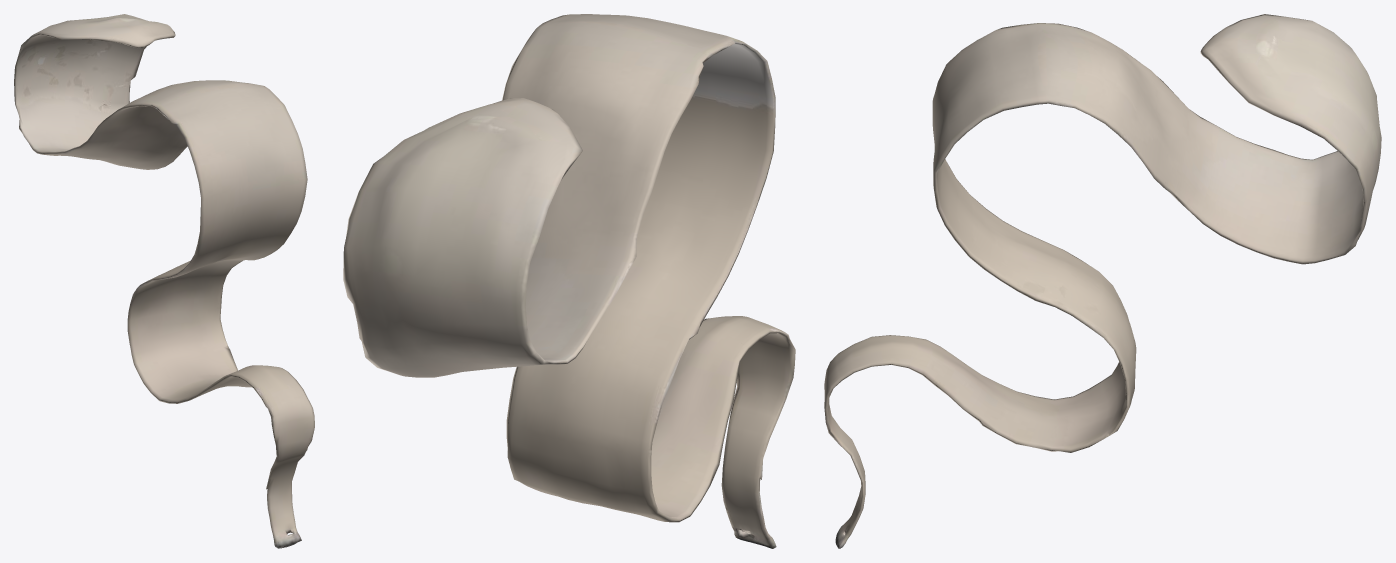
The model's file is Ittan_Momen2.glb.
3 views of the same model, side by side, from view 1: azimuth 30°, elevation 25°; view 2: azimuth 150°, elevation 25°; view 3: azimuth 270°, elevation 25° (orthographic). The views are drawn at different scales.
Parts seen in each view (by area): view 1: Retopo_ittan-momen2; view 2: Retopo_ittan-momen2; view 3: Retopo_ittan-momen2.
Part boxes in pixels (x1,y1,x2,y2): Retopo_ittan-momen2: (14, 14, 314, 548); Retopo_ittan-momen2: (343, 14, 795, 548); Retopo_ittan-momen2: (824, 14, 1381, 548).
Size of the model in its own units: 0.6729 by 1.95 by 1.95.
Materials: 1 (1 with a texture image).
